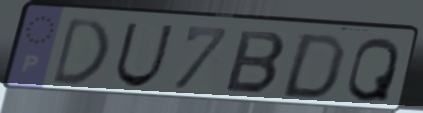7: (172, 23, 231, 94)
B: (221, 28, 289, 97)
D: (276, 31, 350, 102), (48, 14, 113, 88)
Q: (343, 35, 403, 105)
U: (111, 20, 177, 90)
